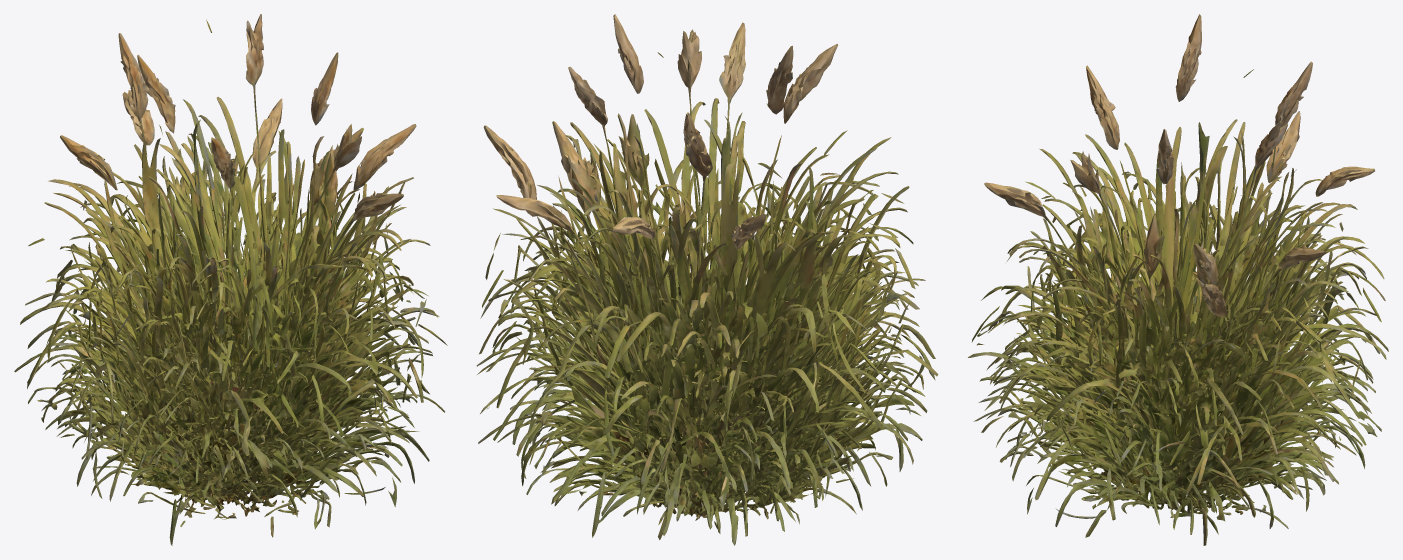
File: Grass_Tall.fbx
3 renders of one model, left to right at view 1: azimuth 30°, elevation 25°; view 2: azimuth 150°, elevation 25°; view 3: azimuth 270°, elevation 25°, orthographic. The views are drawn at different scales.
Parts seen in each view (by area): view 1: geometry_0; view 2: geometry_0; view 3: geometry_0.
Boxes of the visible parts, x1=… form: geometry_0: x1=14, y1=14, x2=447, y2=545; geometry_0: x1=476, y1=14, x2=938, y2=545; geometry_0: x1=968, y1=14, x2=1388, y2=545.
Size of the model in its own units: 107 by 120 by 105.
